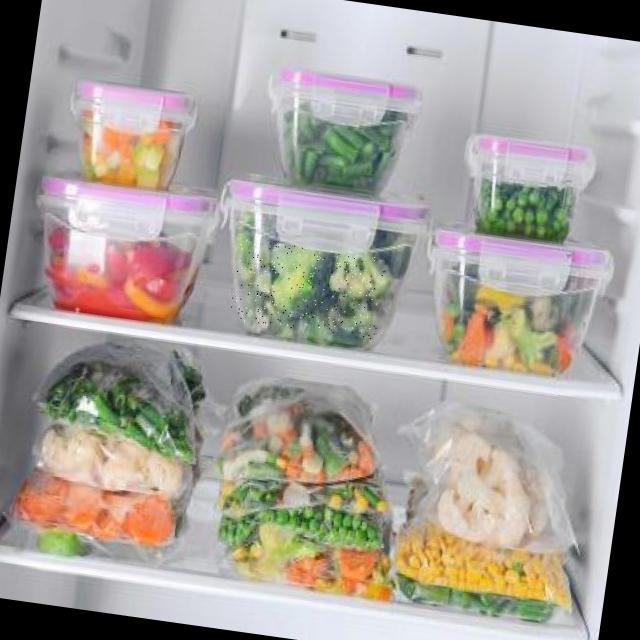Brocoli: (229, 238, 387, 341)
